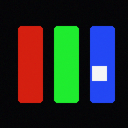1 square: (92, 66, 106, 80)
